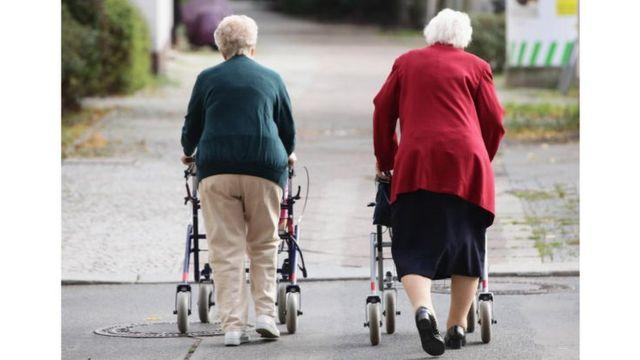walking_frame: (364, 9, 506, 356), (173, 14, 310, 347)
